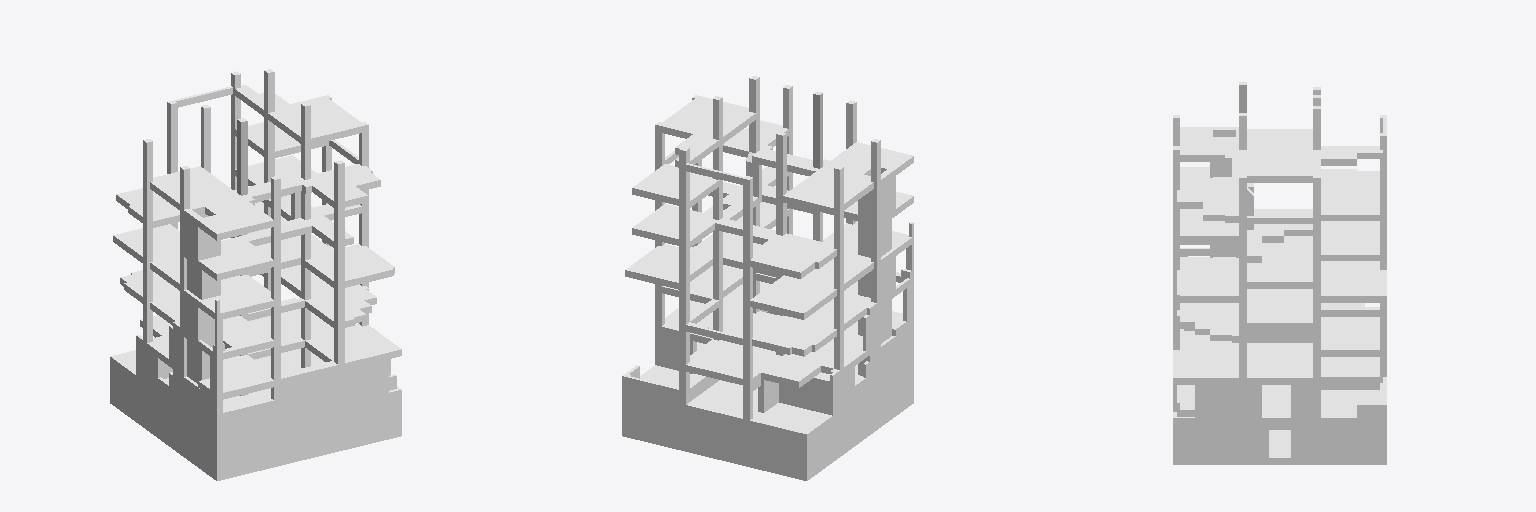
The picture shows the model from 3 angles: view 1: azimuth 30°, elevation 25°; view 2: azimuth 150°, elevation 25°; view 3: azimuth 270°, elevation 25°; orthographic projection.
Parts seen in each view (by area): view 1: ed1; view 2: ed1; view 3: ed1.
Part boxes in pixels (x1,y1,x2,y2): ed1: (110,69,401,480); ed1: (622,76,913,480); ed1: (1173,82,1386,464).
Size of the model in its own units: 17.4 by 29.4 by 17.4.